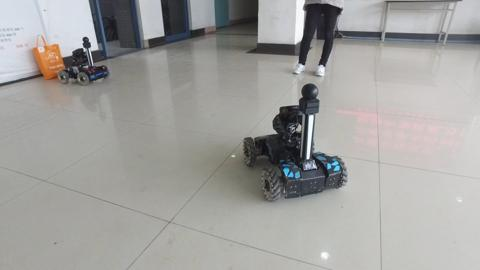bag: (29, 31, 66, 81)
chariot: (241, 81, 348, 203), (57, 37, 111, 86)
